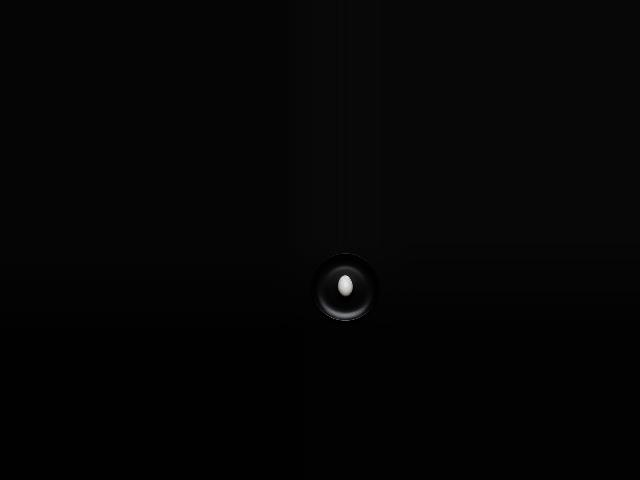egg: (338, 275, 353, 297)
